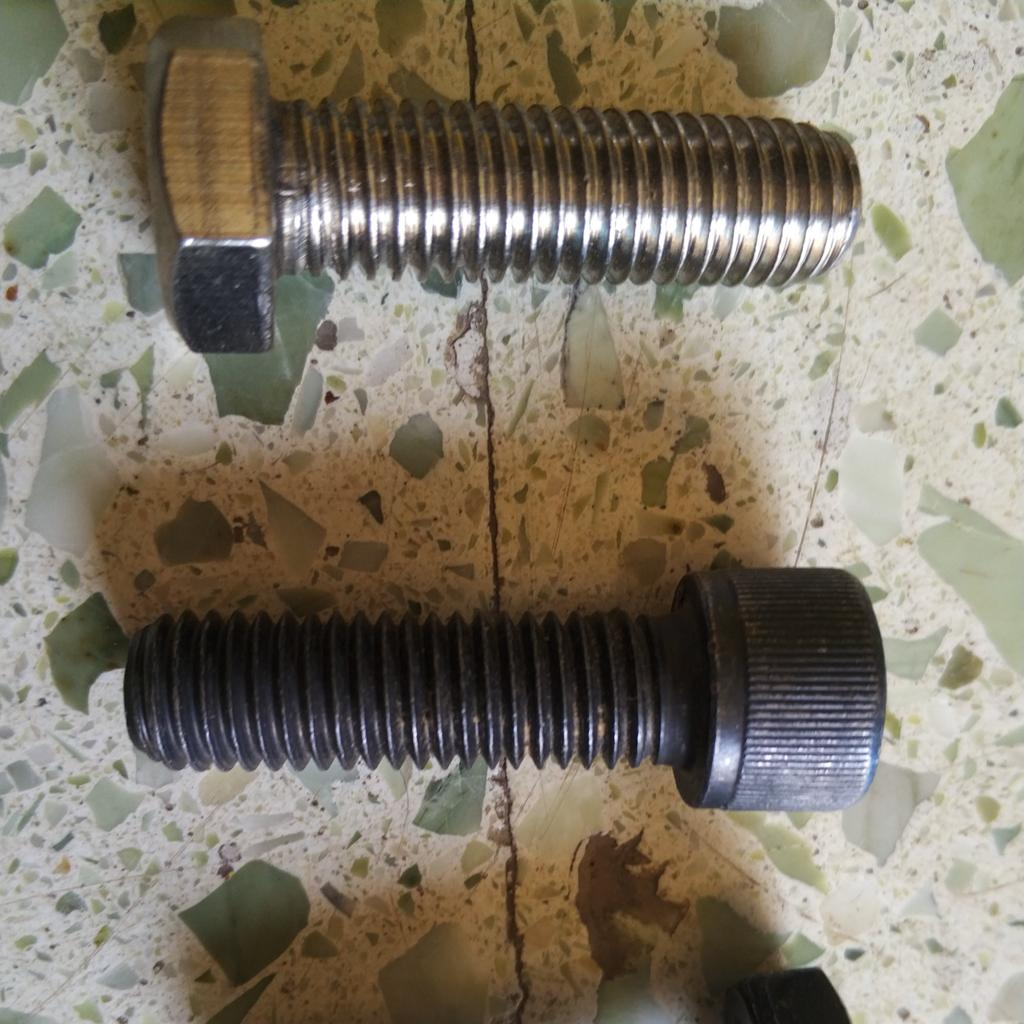screwtype1black: (115, 563, 894, 817)
screwtype2silver: (138, 15, 866, 359)
